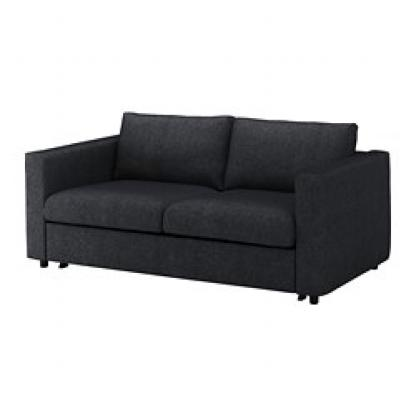Sofa: (18, 103, 393, 323)
